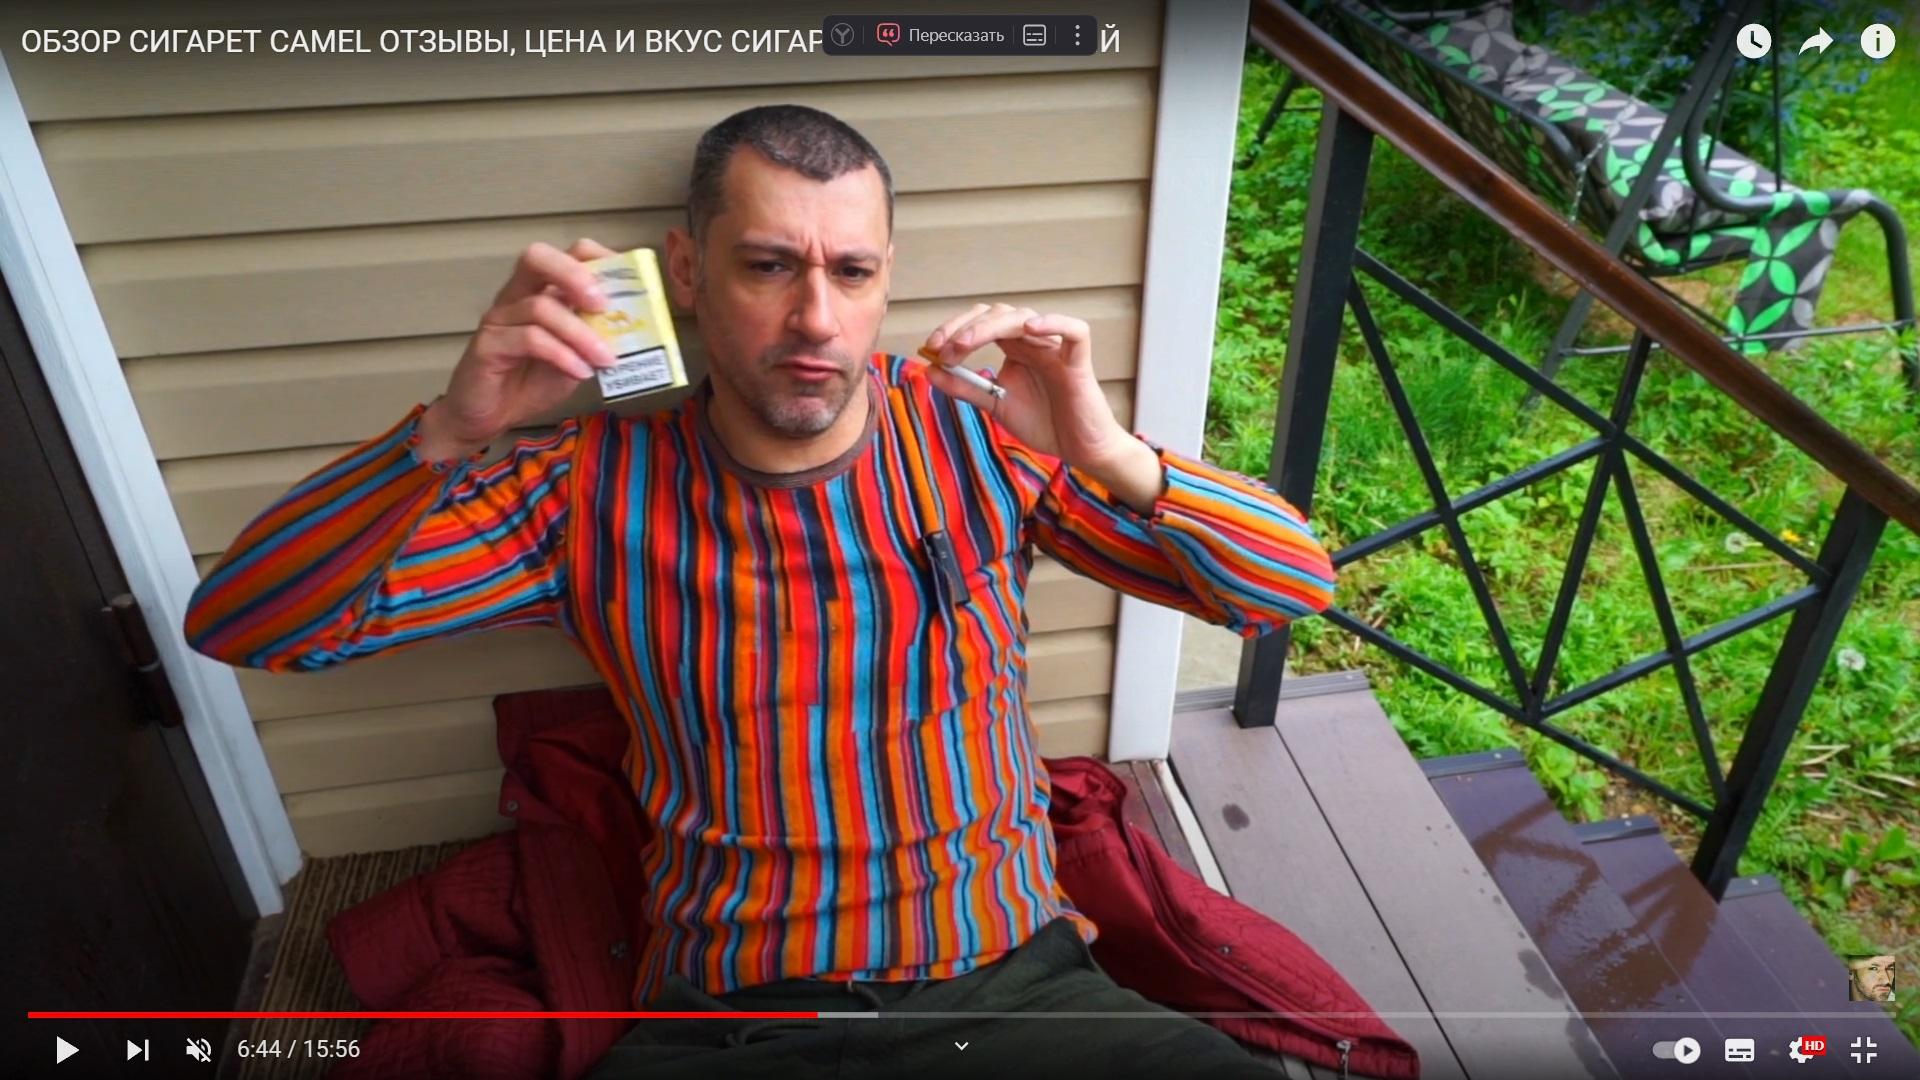cigarette: (918, 345, 1009, 398)
